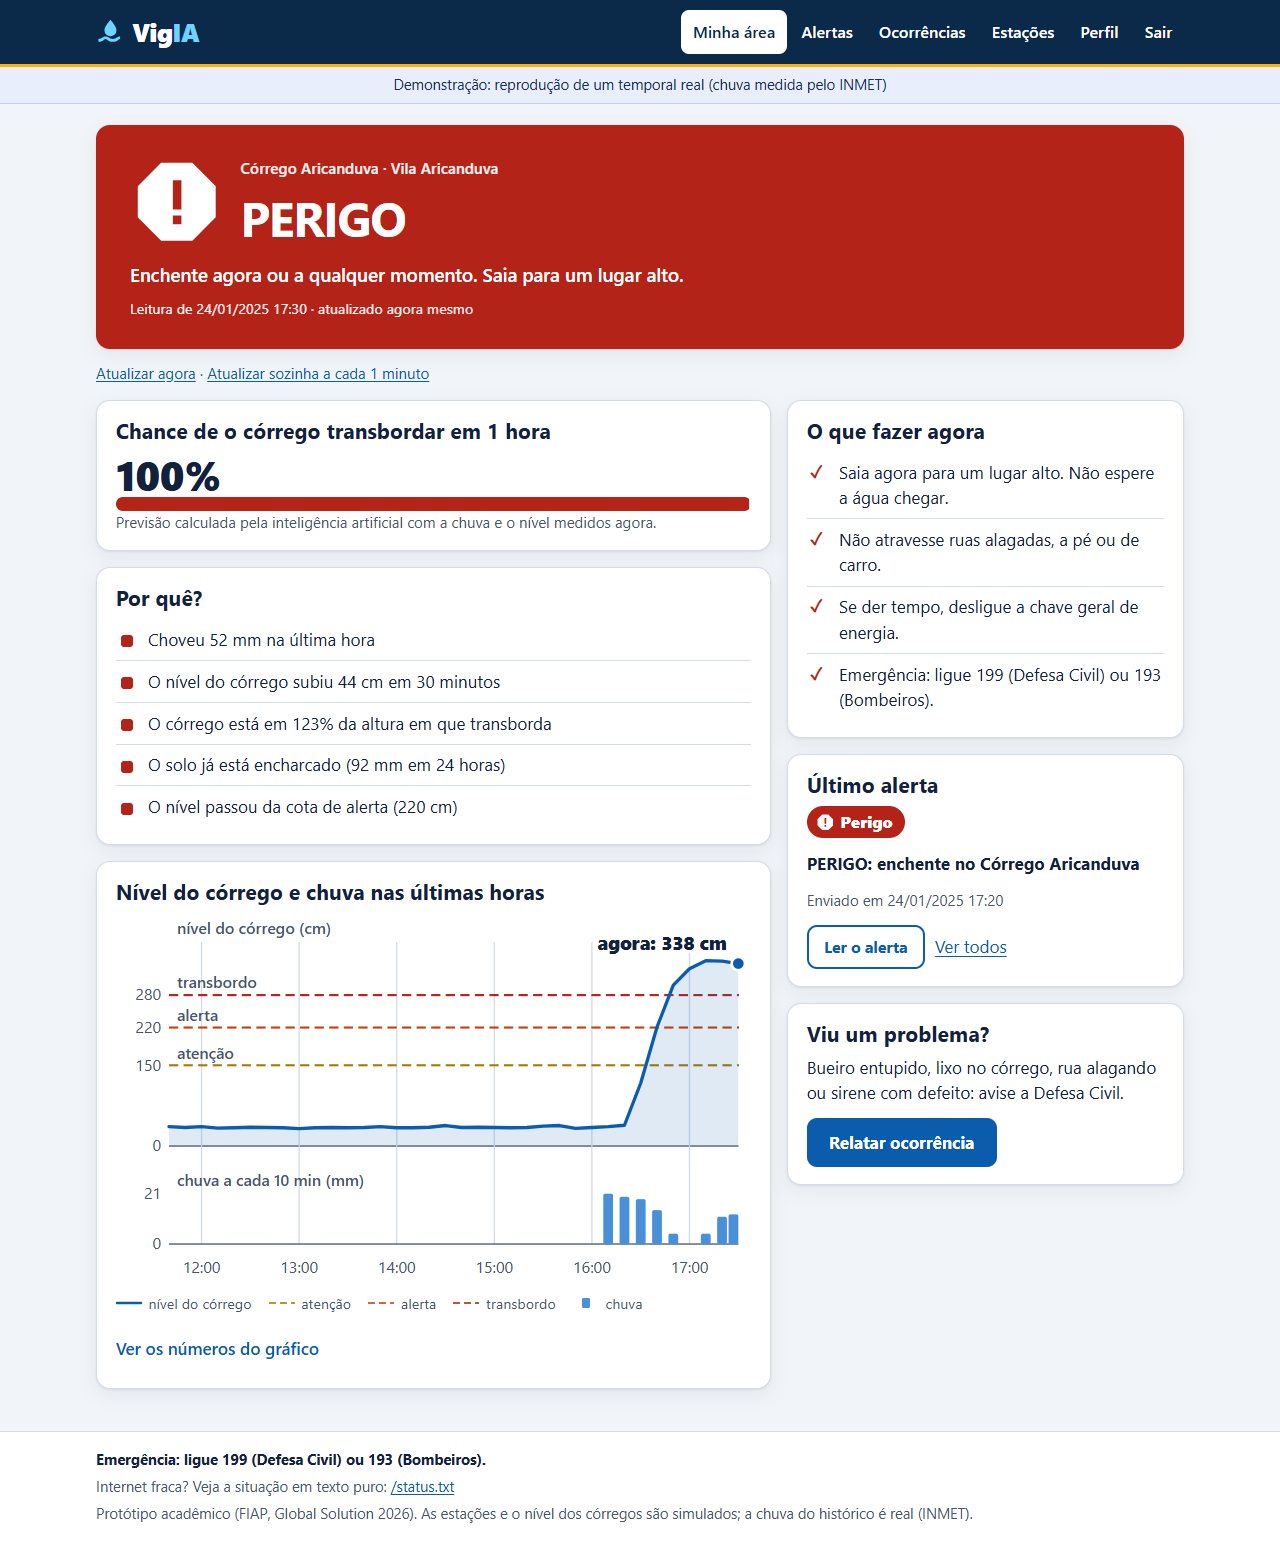

Layout of this report page (visuals, bound fields, positions):
{"tool":"powerbi","page":{"name":"Página 1","canvas":[1920,1080],"ordinal":0},"visuals":[{"type":"htmlContent443BE3AD55E043BF878BED274D3A6855","fields":{"content":["Medidas.VigIA Painel HTML"]},"box":[0,0,1920,1079.6],"z":0},{"type":"slicer","fields":{"Values":["dim_data.data"]},"box":[42.3,134.2,300.5,52.5],"z":1},{"type":"slicer","fields":{"Values":["dim_estacao.nome"]},"box":[367.7,137.1,356,52.5],"z":2}]}

Visuals, with their boxes on the page's 1920x1080 design canvas (x1, y1, x2, y2). These are canvas units, not pixel positions in the 1280x1552 screenshot, which may show the page scaled, cropped or inside an application window:
htmlContent443BE3AD55E043BF878BED274D3A6855 - Medidas.VigIA Painel HTML: pyautogui.locateOnScreen(0, 0, 1920, 1080)
slicer - dim_data.data: pyautogui.locateOnScreen(42, 134, 343, 187)
slicer - dim_estacao.nome: pyautogui.locateOnScreen(368, 137, 724, 190)
